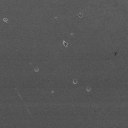corrosion: (62, 39, 69, 48), (71, 78, 79, 85), (1, 16, 9, 22), (34, 66, 41, 72), (85, 85, 91, 91)
